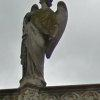Statue: (12, 2, 69, 84)
